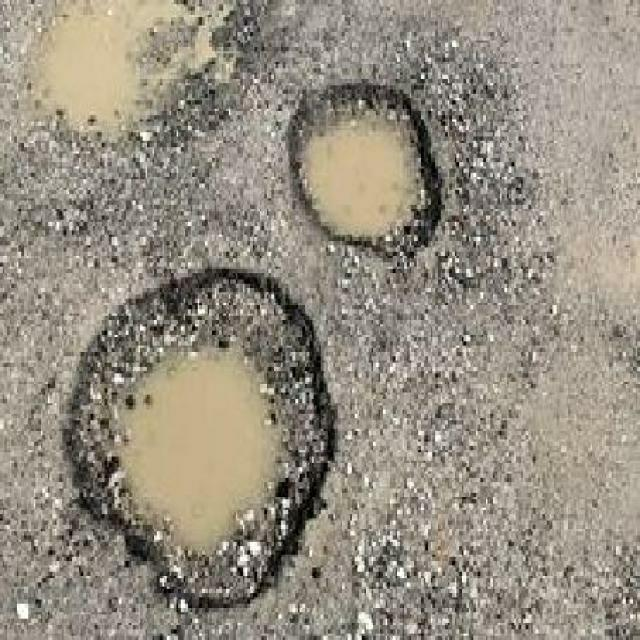Pothole: (57, 260, 345, 619), (20, 0, 250, 156), (283, 77, 446, 256)
